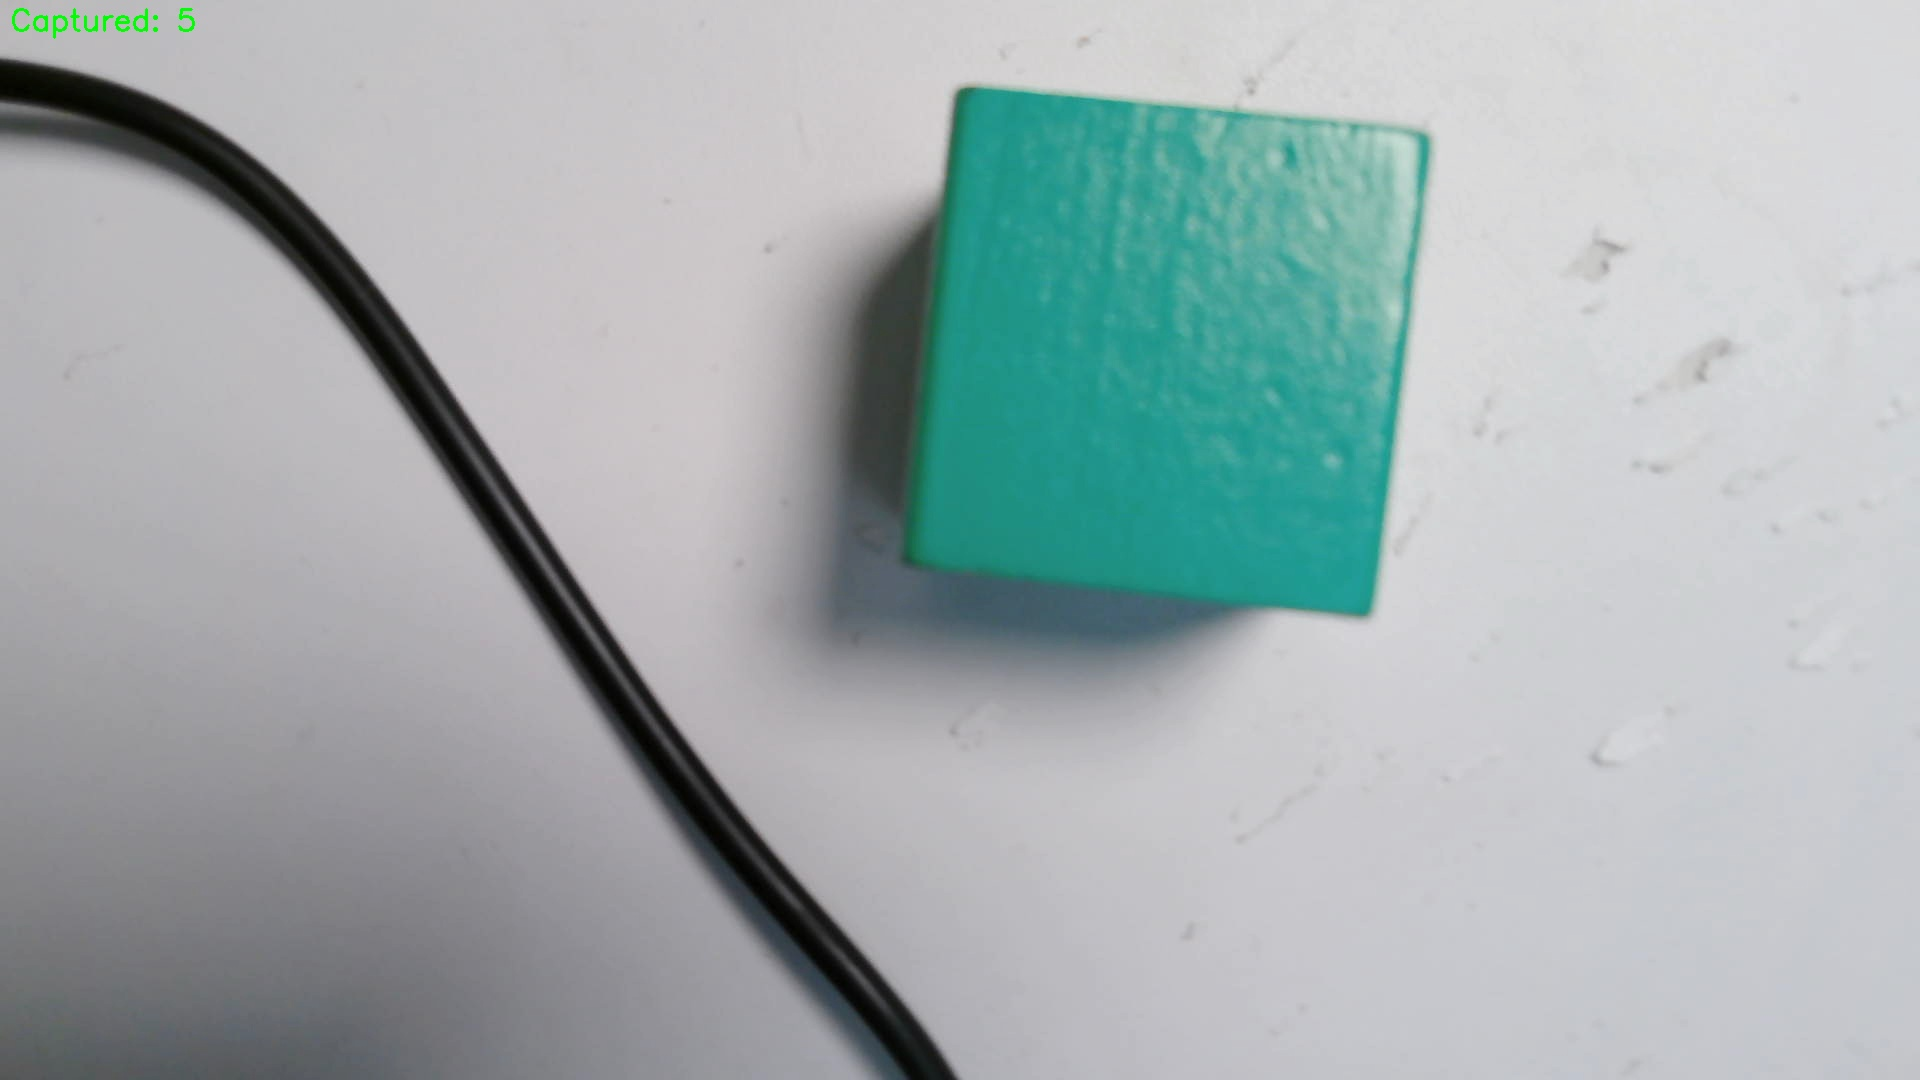green: (909, 84, 1433, 633)
